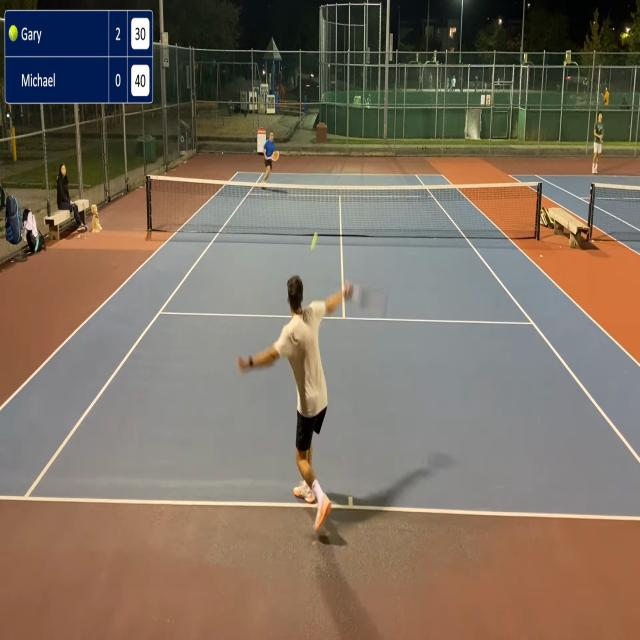ball: (5, 23, 22, 45), (309, 230, 318, 252), (222, 152, 223, 154)
